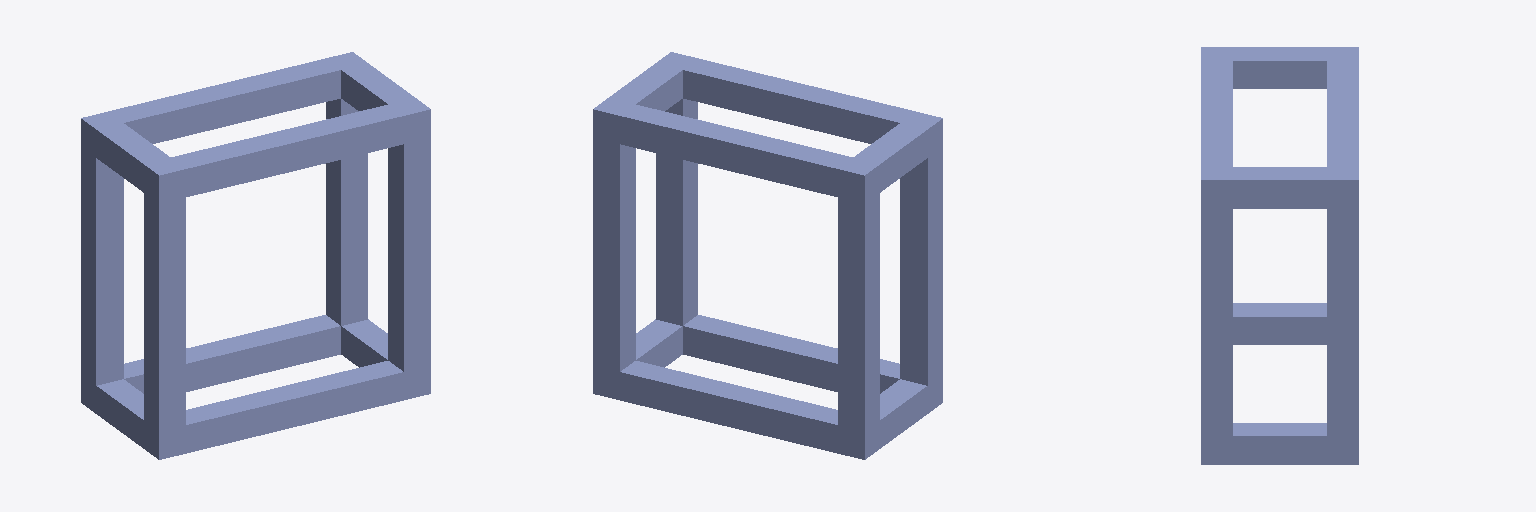
Rendered from frame.obj.
3 views of the same model, side by side, from view 1: azimuth 30°, elevation 25°; view 2: azimuth 150°, elevation 25°; view 3: azimuth 270°, elevation 25° (orthographic).
Visible parts, largest first — view 1: Cube; view 2: Cube; view 3: Cube.
Part boxes in pixels (bbox=[...]): Cube: bbox=[81, 52, 430, 459]; Cube: bbox=[593, 52, 942, 459]; Cube: bbox=[1201, 47, 1358, 464].
Bounding box in the file's own units: 0.5 × 0.5 × 0.25.